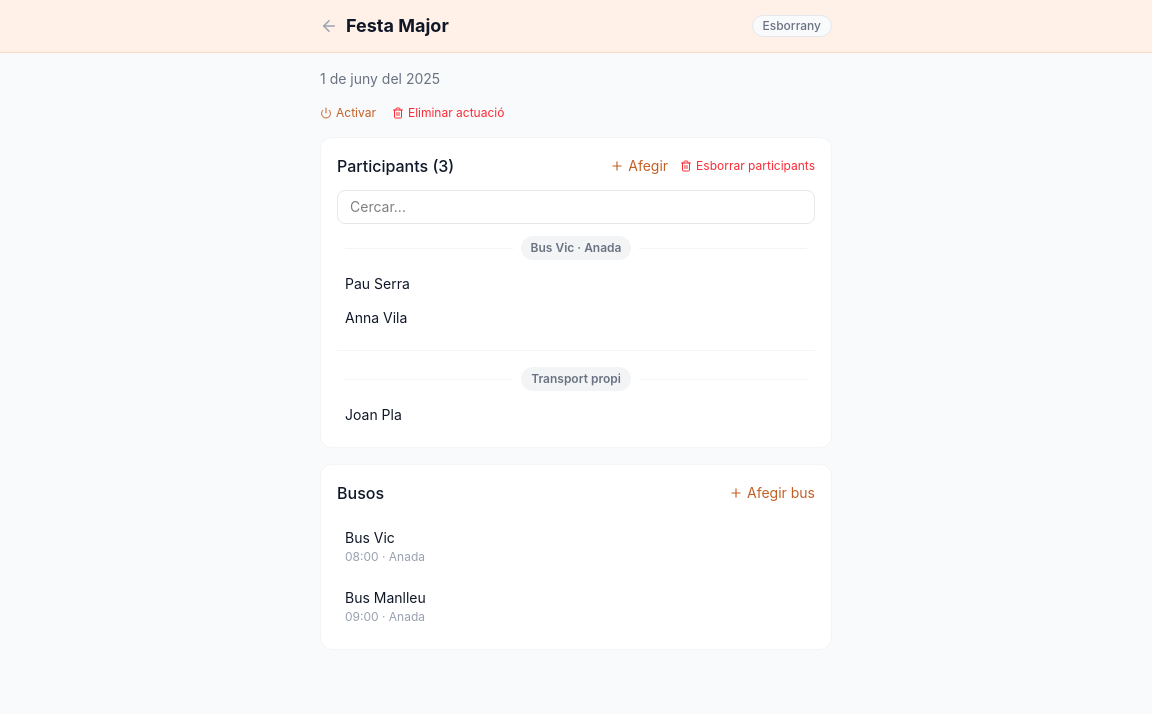
Test: EventAdmin - participants › afegir participant mostra formulari
The width and height of the screenshot is (1152, 714).
Check: the text "Anna Vila" is shown, box [345, 308, 407, 328]
Click the button "Afegir" at (639, 166), box [610, 156, 668, 176]
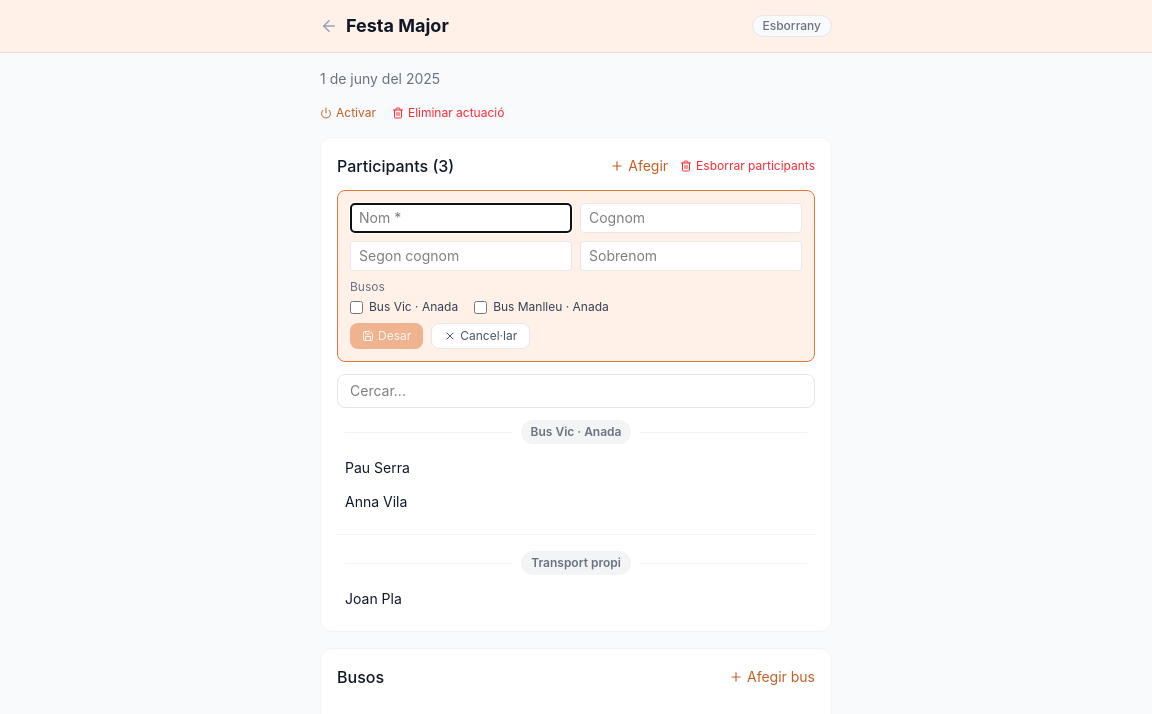
Check: the field with placeholder "Nom *" is shown, box [350, 203, 572, 233]
Check: the field with placeholder "Cognom" is shown, box [580, 203, 802, 233]
